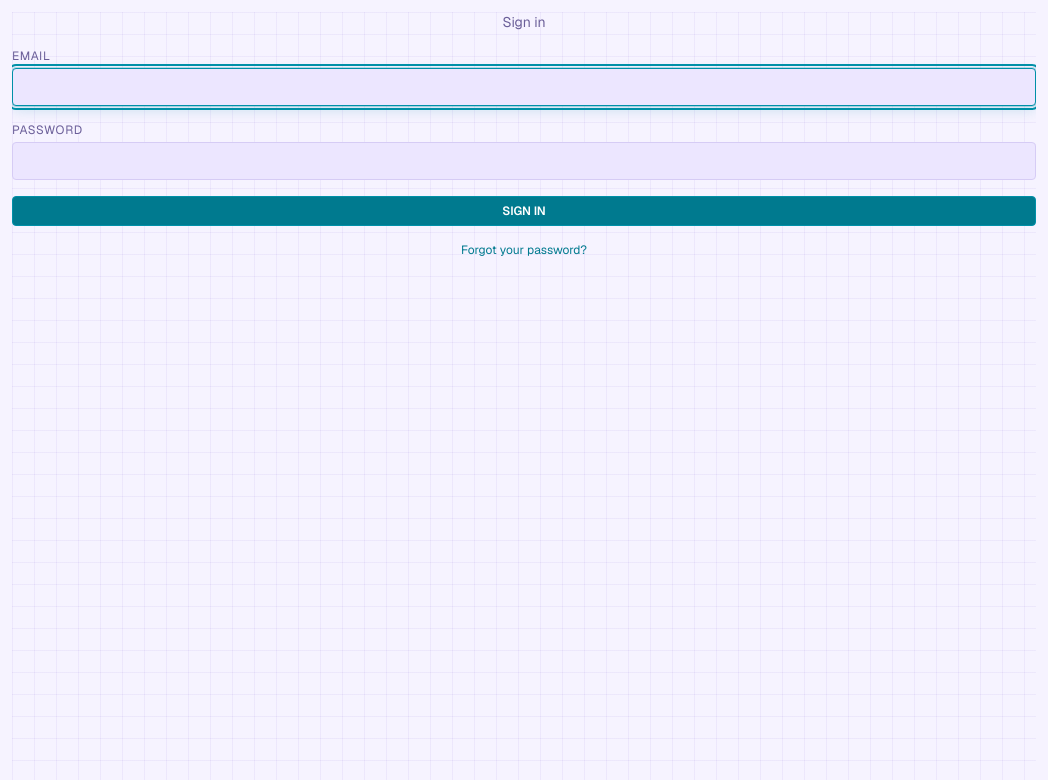
it: LoginForm › explains a locked account
The image size is (1048, 780).
In the field labelled "Email": (524, 87) [12,68,1036,106], type "a@x.io"
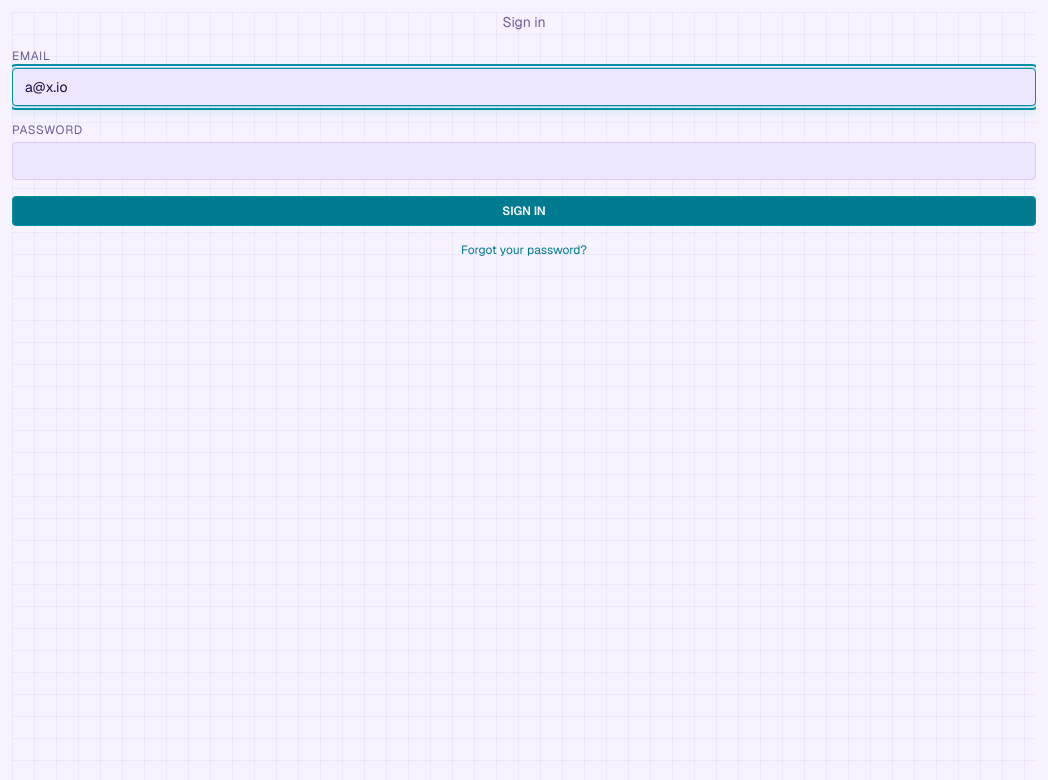
In the password field labelled "Password": (524, 161) [12,142,1036,180], type "correct-horse-1"
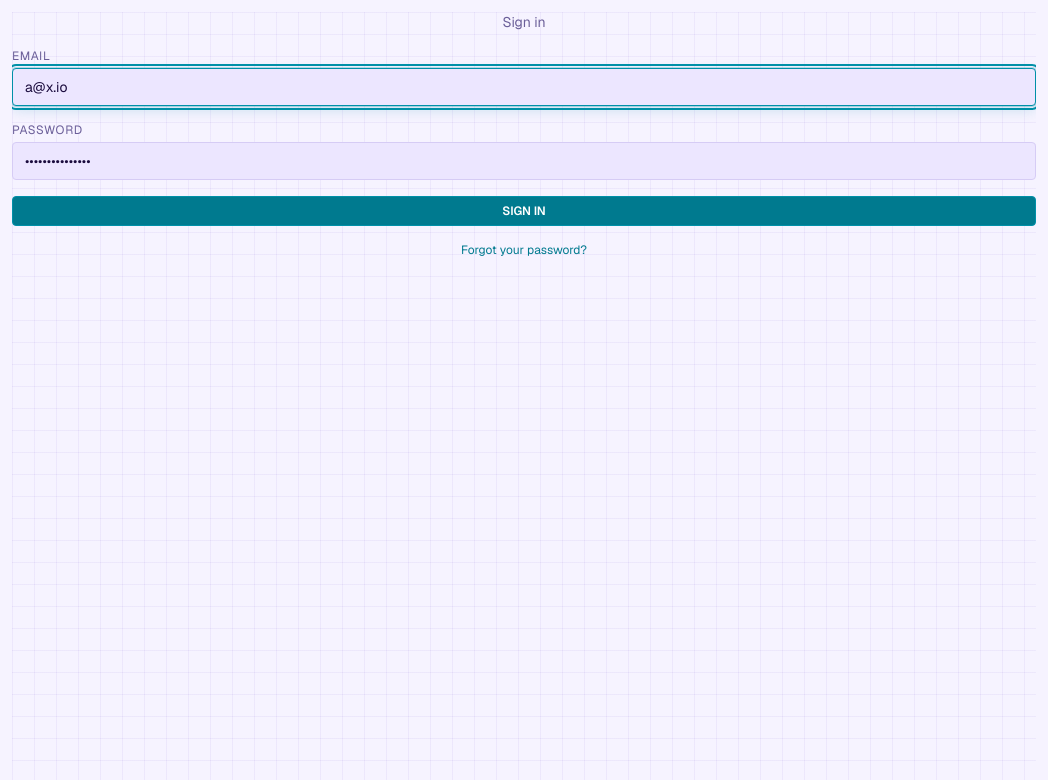
Click the button "Sign in": (524, 211) [12,196,1036,226]
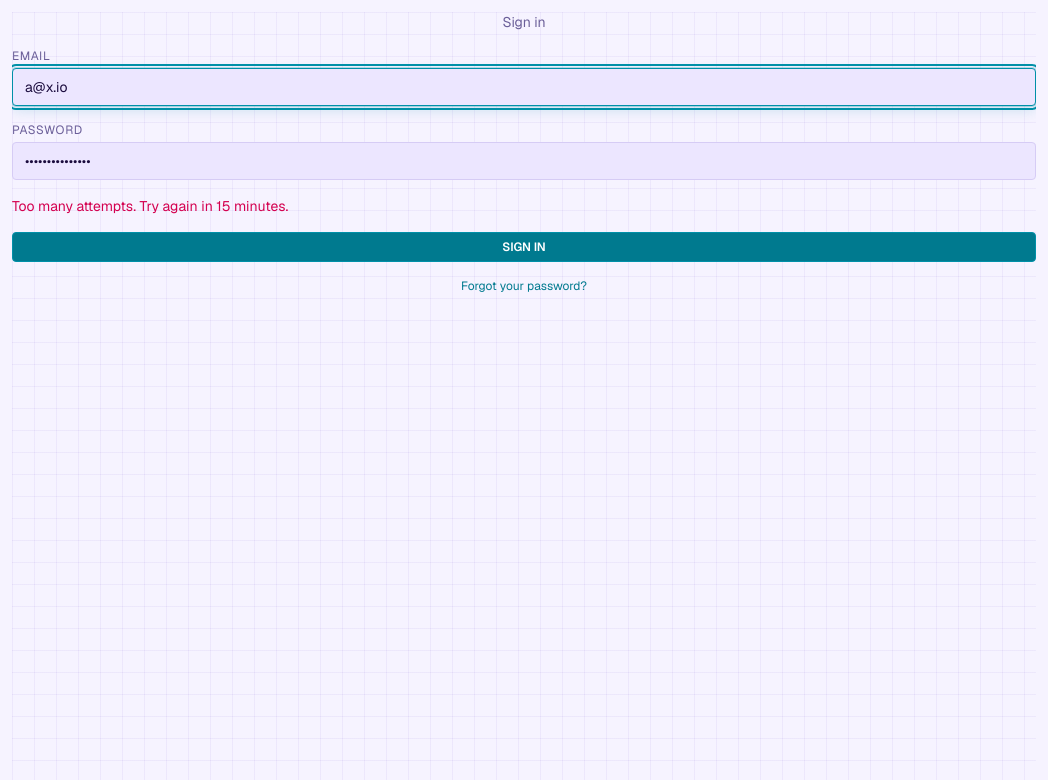
Check: the text "Too many attempts. Try again in 15 minutes." is shown, box [12,197,288,215]
